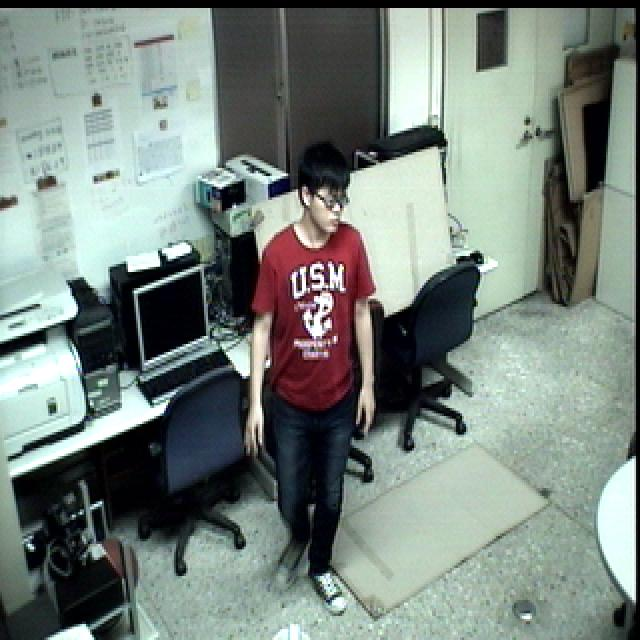stand: (236, 129, 381, 626)
